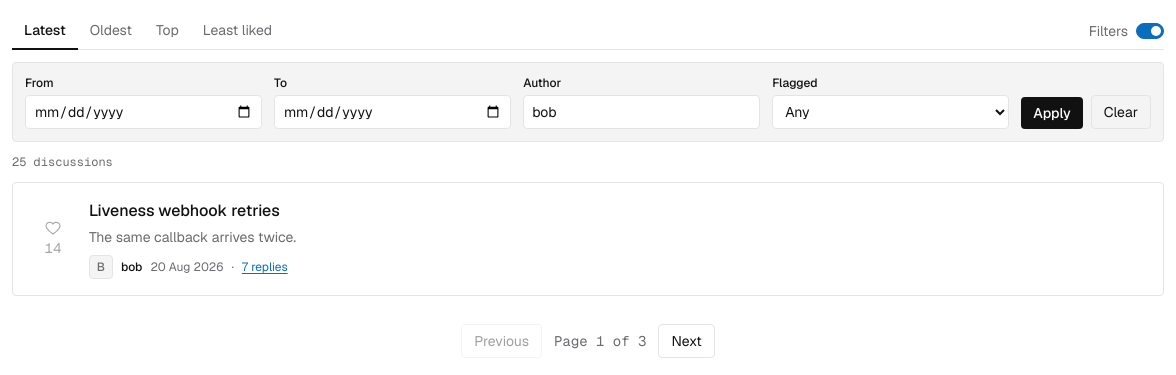
Test: PostsContainer › clearing empties the fields as well as the filters
The width and height of the screenshot is (1176, 375).
Check: the field showing "bob" is shown, box [523,95,760,129]
What coordinates should you click on to do the following:
click the button "Clear"
I would click on:
 (1121, 112)
Its box is [1091,95,1151,129].
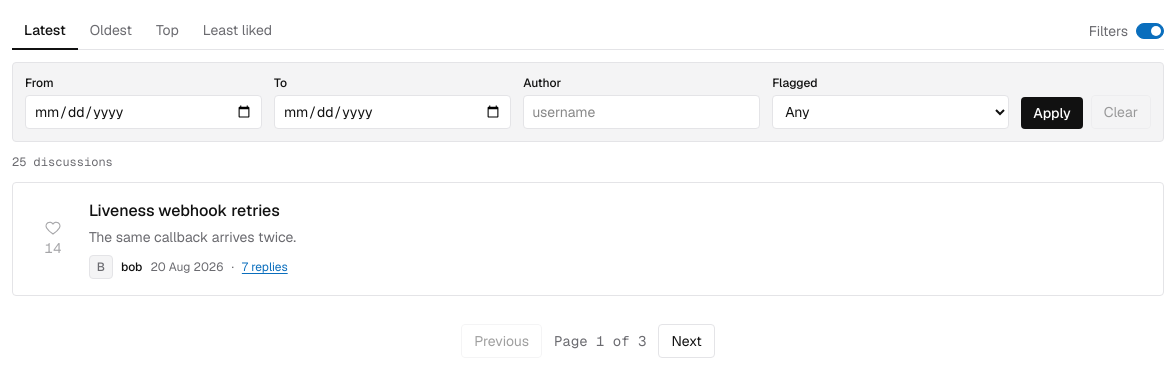
Check: the field labelled "Author" is empty, box [523,95,760,129]
